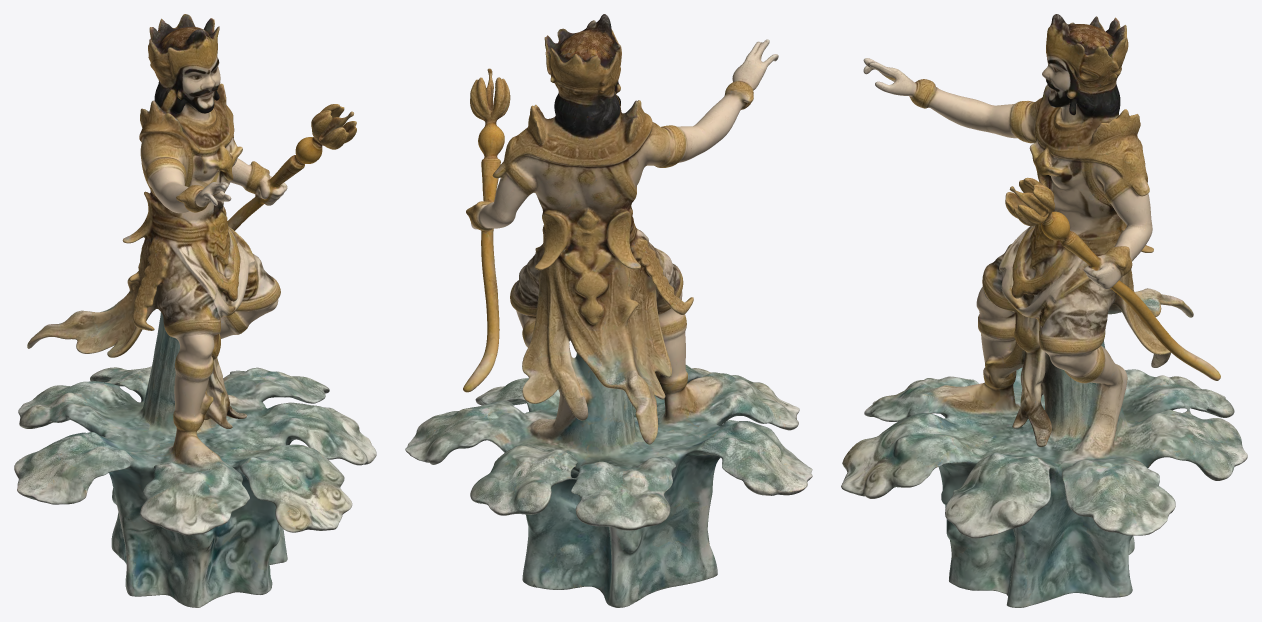
The model's file is pandawa-statue.glb.
3 renders of one model, left to right at view 1: azimuth 30°, elevation 25°; view 2: azimuth 150°, elevation 25°; view 3: azimuth 270°, elevation 25°, orthographic. The views are drawn at different scales.
Size of the model in its own units: 1.27 by 1.9 by 1.25.
Materials: 1 (1 with a texture image).
